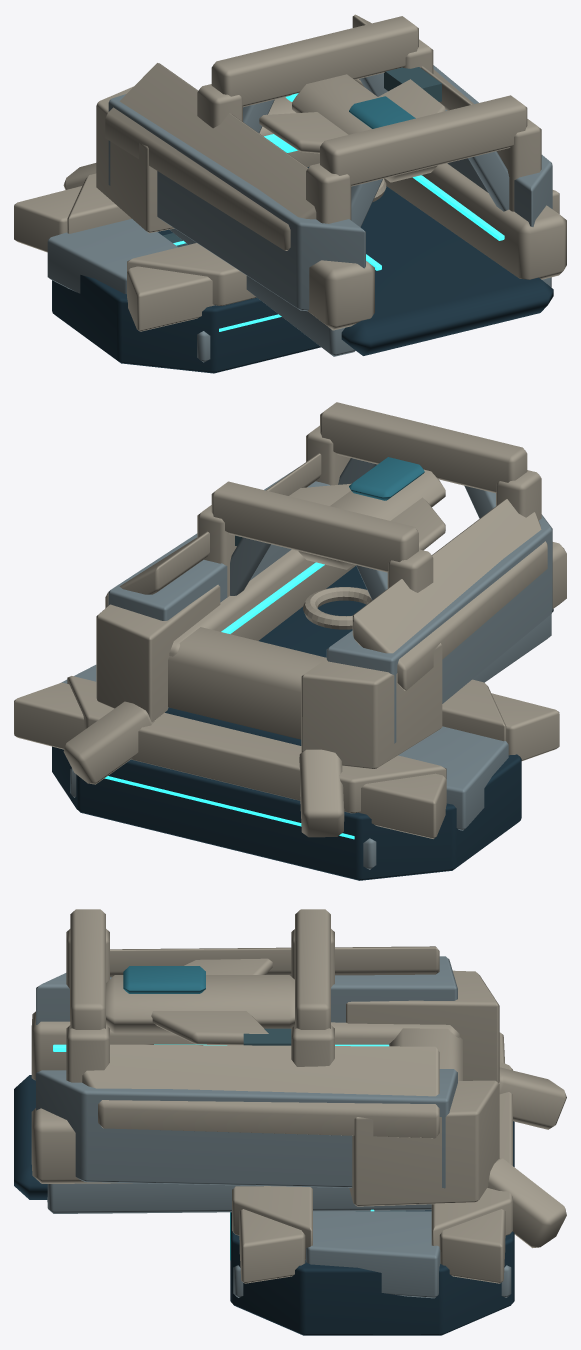
Rendered from shipyard.glb.
3 renders of one model, top to bottom at view 1: azimuth 30°, elevation 25°; view 2: azimuth 150°, elevation 25°; view 3: azimuth 270°, elevation 25°, orthographic. The views are drawn at different scales.
Visible parts, largest first — view 1: Dark launch trench, Deep sloped armored dock shoulder around open launch void, Tapered pressure hangar shell framing launch void, Integrated tapered pressure socket.003, Heavy dock overhead load arch, Heavy dock overhead load arch.001, Outboard cantilever pressure fork.001, Visible heavy socket-to-ring shear key.006, Deep dock root hangar mass, Four flared armored spine transitions.012, Outboard cantilever pressure fork, Common flared primary load bank.006 (+20 smaller); view 2: Integrated tapered pressure socket.003, Deep sloped armored dock shoulder around open launch void, Common flared primary load bank.007, Deep dock root hangar mass, Inner dock transfer jaw, Heavy dock overhead load arch.001, Heavy dock overhead load arch, Tapered pressure hangar shell framing launch void, Deep dock root hangar mass.001, Outboard cantilever pressure fork.001, Visible heavy socket-to-ring shear key.006, Four flared armored spine transitions.013 (+24 smaller); view 3: Deep sloped armored dock shoulder around open launch void.00, Tapered pressure hangar shell framing launch void.001, Integrated tapered pressure socket.003, Deep dock root hangar mass.001, Visible heavy socket-to-ring shear key.007, Docked shuttle fuselage, Under-fork dark return girder.001, Deep dock root hangar mass, Deep sloped armored dock shoulder around open launch void, Tapered pressure hangar shell framing launch void, Outboard cantilever pressure fork, Heavy dock overhead load arch (+16 smaller).
Part boxes in pixels (x1,y1,x2,y2): Dark launch trench: (307,167,553,355); Deep sloped armored dock shoulder around open launch void: (105,63,316,250); Tapered pressure hangar shell framing launch void: (108,94,365,311); Integrated tapered pressure socket.003: (52,229,320,373); Heavy dock overhead load arch: (320,95,527,186); Heavy dock overhead load arch.001: (211,16,418,107); Outboard cantilever pressure fork.001: (384,163,566,279); Visible heavy socket-to-ring shear key.006: (47,219,177,294); Deep dock root hangar mass: (96,86,174,233); Four flared armored spine transitions.012: (127,266,214,331); Outboard cantilever pressure fork: (308,260,374,330); Common flared primary load bank.006: (127,243,256,305); Integrated tapered pressure socket.003: (52,746,521,880); Deep sloped armored dock shoulder around open launch void: (352,499,547,690); Common flared primary load bank.007: (67,676,446,813); Deep dock root hangar mass: (301,643,442,768); Inner dock transfer jaw: (168,627,326,739); Heavy dock overhead load arch.001: (211,481,418,572); Heavy dock overhead load arch: (320,402,527,493); Tapered pressure hangar shell framing launch void: (326,514,552,743); Deep dock root hangar mass.001: (96,584,220,722); Outboard cantilever pressure fork.001: (169,549,355,656); Visible heavy socket-to-ring shear key.006: (398,726,508,830); Four flared armored spine transitions.013: (359,773,446,838); Deep sloped armored dock shoulder around open launch void.00: (82,1044,439,1138); Tapered pressure hangar shell framing launch void.001: (36,1069,457,1188); Integrated tapered pressure socket.003: (230,1121,514,1335); Deep dock root hangar mass.001: (349,1080,499,1206); Visible heavy socket-to-ring shear key.007: (305,1211,440,1298); Docked shuttle fuselage: (106,975,294,1033); Under-fork dark return girder.001: (47,1183,431,1213); Deep dock root hangar mass: (346,970,499,1082); Deep sloped armored dock shoulder around open launch void: (110,946,439,977); Tapered pressure hangar shell framing launch void: (36,956,457,1024); Outboard cantilever pressure fork: (31,1011,459,1080); Heavy dock overhead load arch: (70,909,105,1029).
Size of the model in its own units: 3.24 by 1.97 by 3.54.
